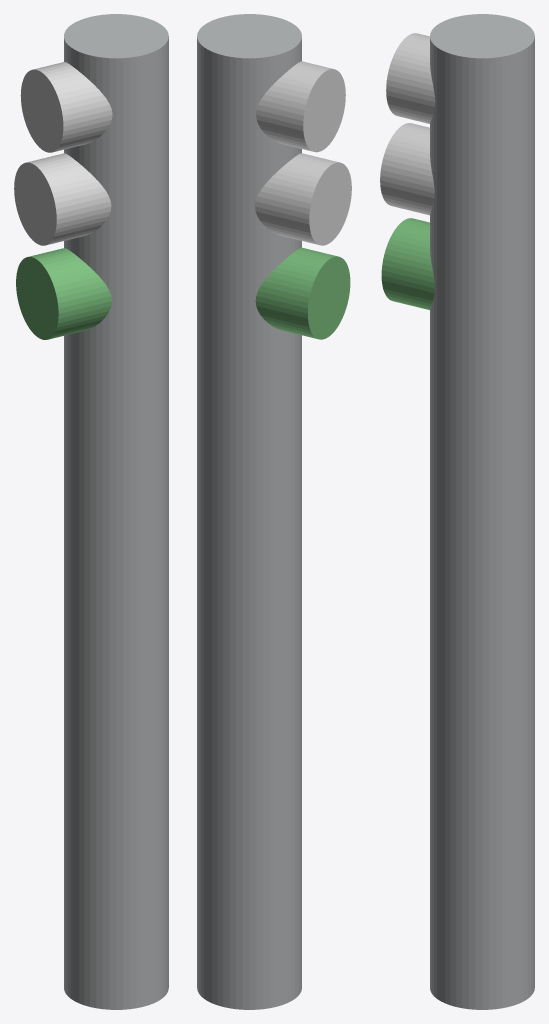
The model's file is trafficlight_green.glb.
3 renders of one model, left to right at view 1: azimuth 30°, elevation 25°; view 2: azimuth 150°, elevation 25°; view 3: azimuth 330°, elevation 25°, orthographic.
Visible parts, largest first — view 1: Mesh_Mesh_head_geo.001_lambert2SG.001; view 2: Mesh_Mesh_head_geo.001_lambert2SG.001; view 3: Mesh_Mesh_head_geo.001_lambert2SG.001.
Boxes of the visible parts, x1,y1,x2,y2 form: Mesh_Mesh_head_geo.001_lambert2SG.001: (14,14,168,1009); Mesh_Mesh_head_geo.001_lambert2SG.001: (197,14,351,1009); Mesh_Mesh_head_geo.001_lambert2SG.001: (380,14,534,1009).
Size of the model in its own units: 0.00278 by 0.02 by 0.002.
